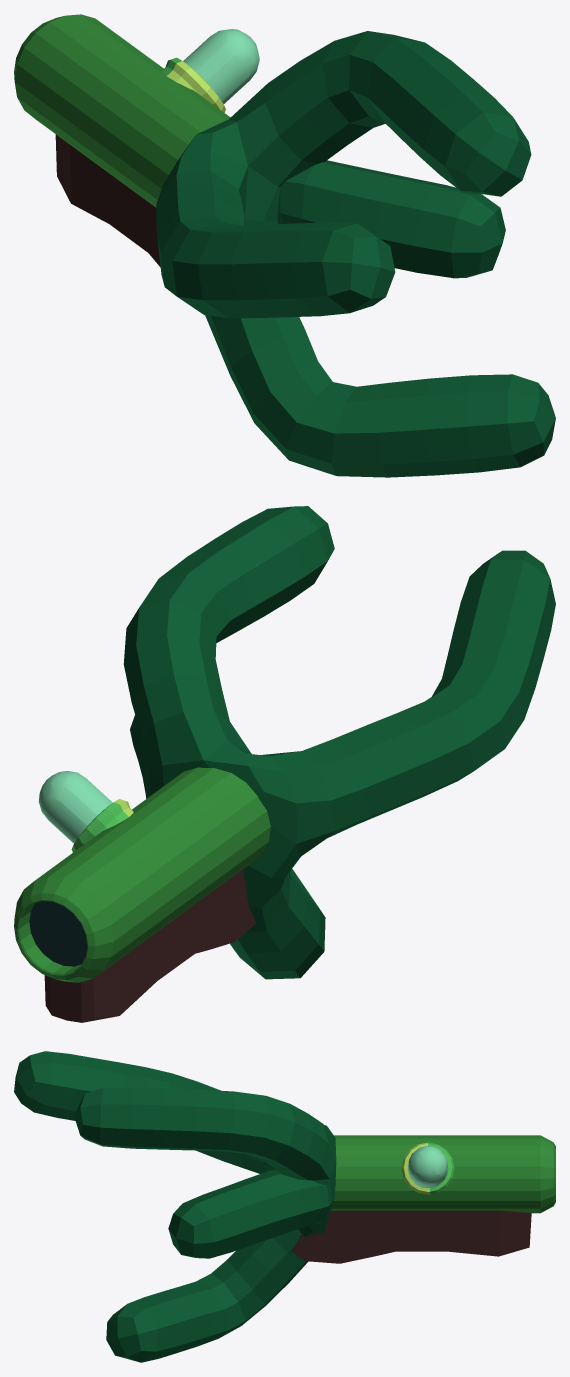
The model's file is pistol.glb.
3 views of the same model, one above another, from view 1: azimuth 30°, elevation 25°; view 2: azimuth 150°, elevation 25°; view 3: azimuth 270°, elevation 25° (orthographic). The views are drawn at different scales.
Visible parts, largest first — view 1: Branches, Barrel, Grip, Capsule.001, Valve; view 2: Branches, Barrel, Grip, Capsule.001, Valve; view 3: Branches, Barrel, Grip, Capsule.001, Valve.
Part boxes in pixels (x1=…): Branches: x1=156, y1=31, x2=555, y2=477; Barrel: x1=14, y1=14, x2=230, y2=207; Grip: x1=55, y1=134, x2=160, y2=267; Capsule.001: x1=183, y1=29, x2=259, y2=103; Valve: x1=162, y1=57, x2=225, y2=112; Branches: x1=123, y1=506, x2=555, y2=979; Barrel: x1=14, y1=767, x2=270, y2=982; Grip: x1=44, y1=869, x2=255, y2=1022; Capsule.001: x1=38, y1=771, x2=112, y2=843; Valve: x1=71, y1=799, x2=133, y2=852; Branches: x1=14, y1=1051, x2=336, y2=1362; Barrel: x1=331, y1=1135, x2=555, y2=1213; Grip: x1=291, y1=1210, x2=531, y2=1263; Capsule.001: x1=408, y1=1146, x2=447, y2=1188; Valve: x1=401, y1=1142, x2=454, y2=1194.
Size of the model in its own units: 1.35 by 1.46 by 2.66.
1 material, 1 textured.
